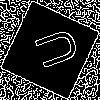U: (25, 25, 81, 75)
